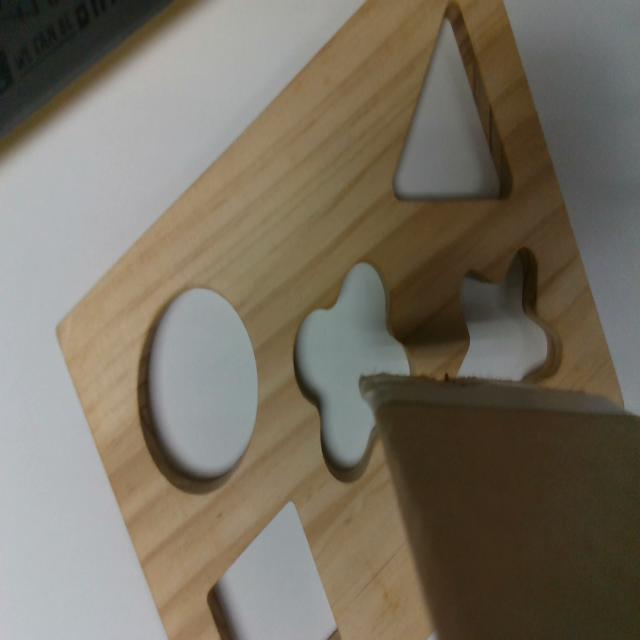circle: (138, 283, 258, 492)
flower: (298, 263, 414, 481)
square: (205, 492, 343, 638)
star: (456, 251, 561, 385)
triangle: (394, 4, 515, 202)
